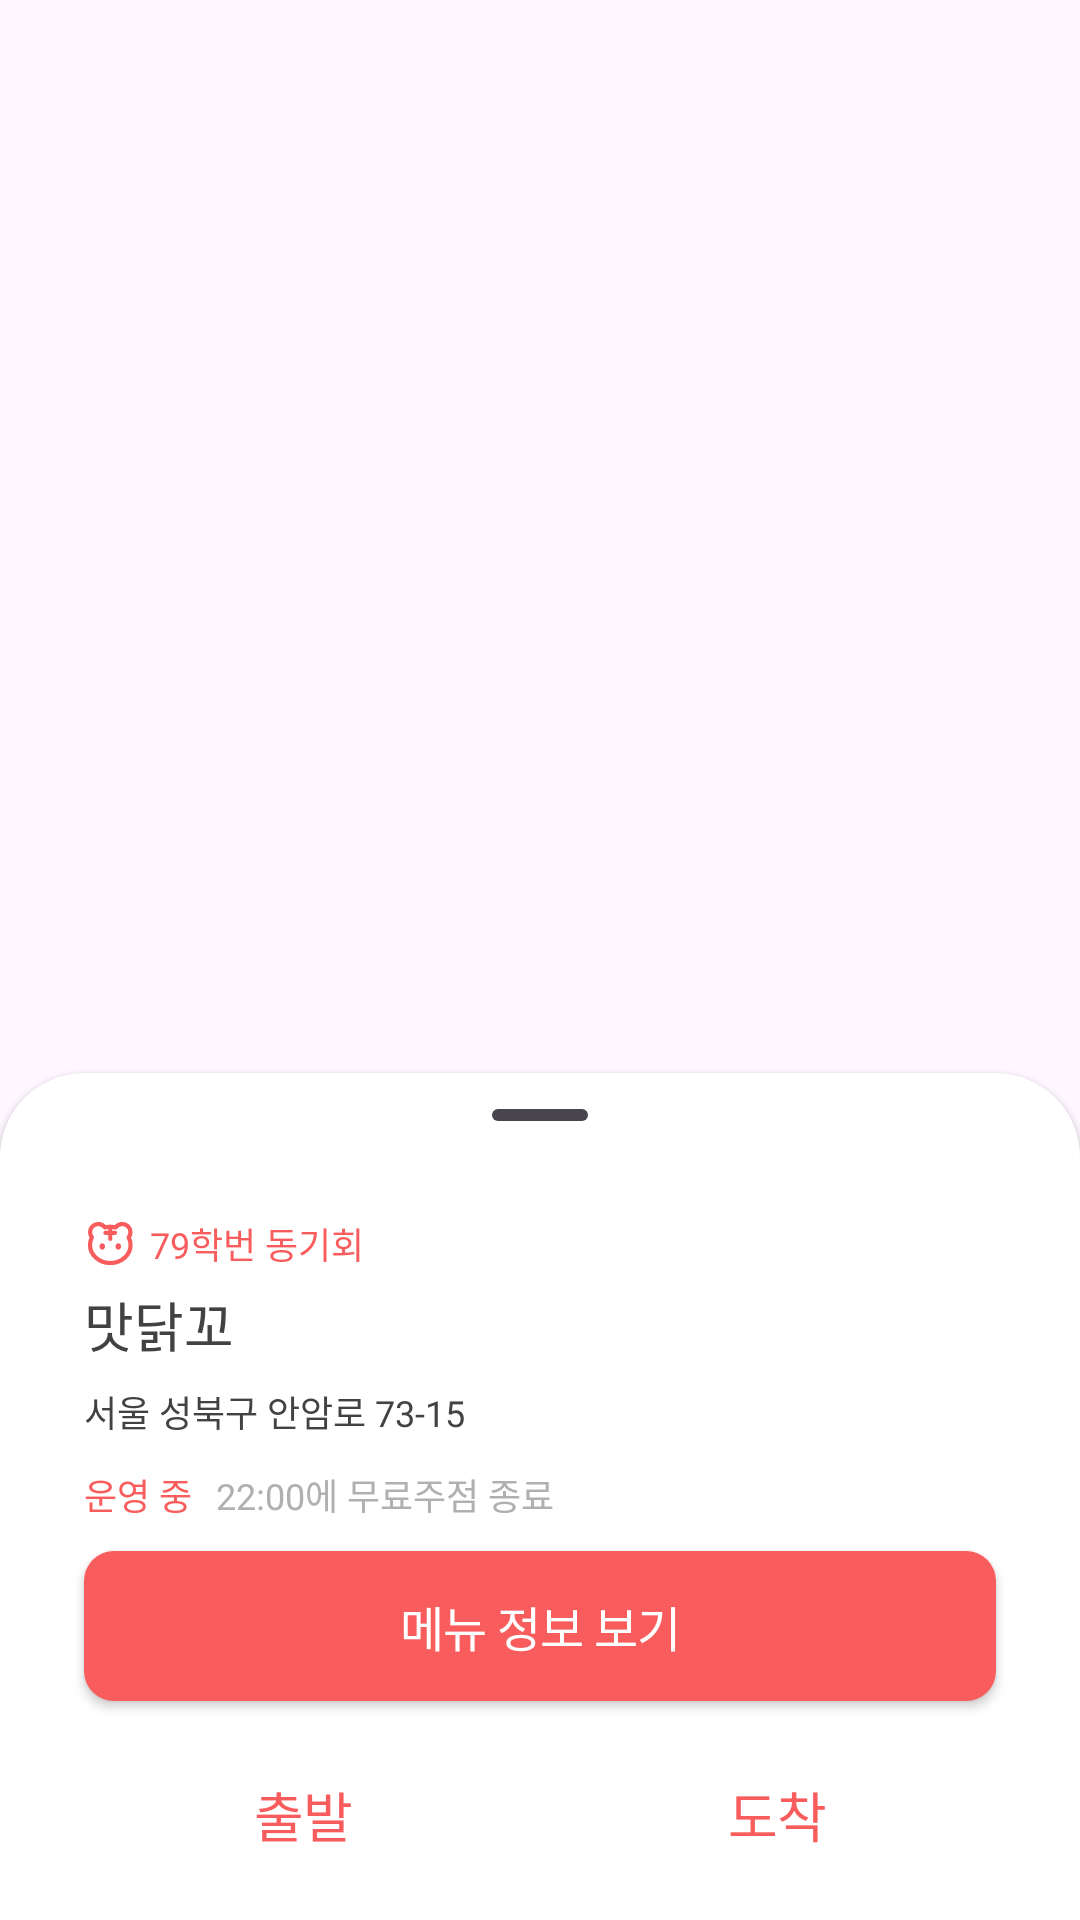

Icons on this 1080 x 1920 Android screen, each with its box as (x1, y1, x2, y2):
tiger: (88, 1222, 133, 1265)
